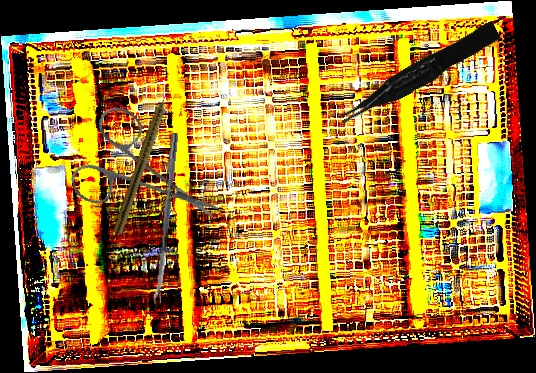Handpiece: (112, 87, 175, 236)
Iris Scissors: (54, 86, 222, 257)
Surgical Spoon: (152, 132, 179, 304)
Tissue Forceps: (331, 20, 505, 128)
